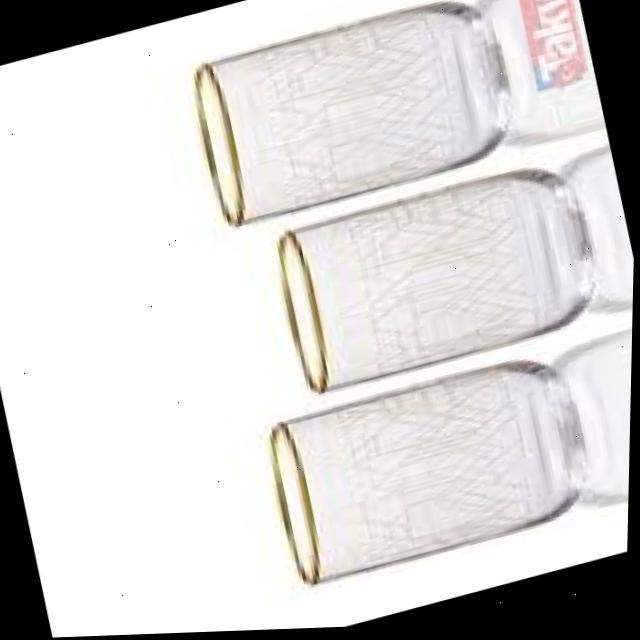Dry: (264, 155, 610, 407)
